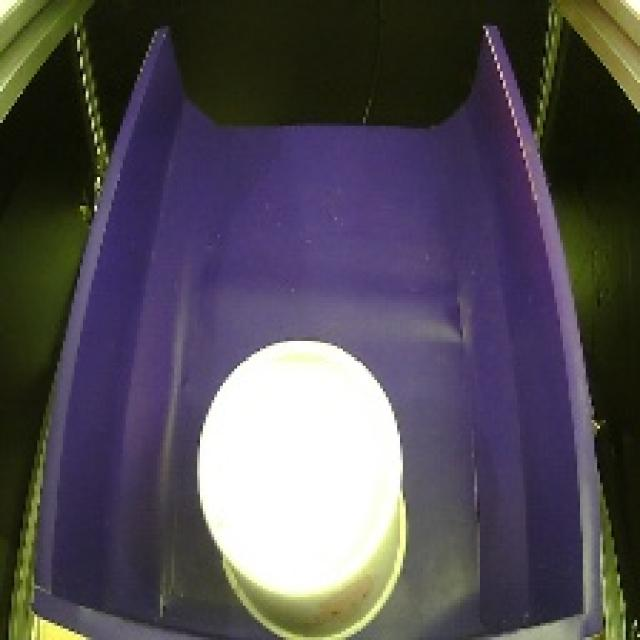cups: (190, 321, 418, 640)
